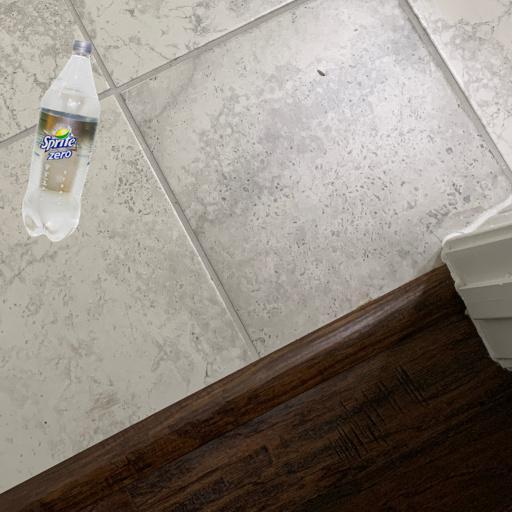bottle: (22, 32, 103, 265)
